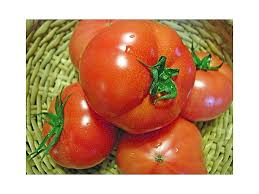tomato: (83, 21, 193, 131), (42, 82, 115, 168), (116, 119, 209, 171), (182, 50, 231, 124), (69, 22, 117, 71)
